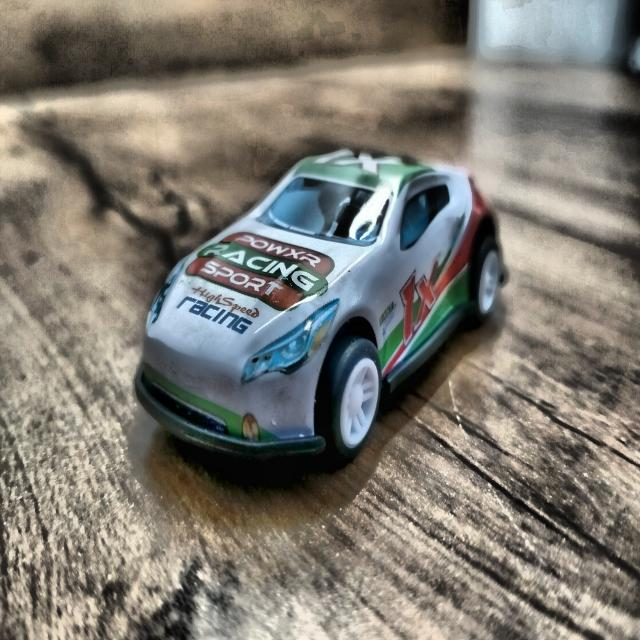Car: (118, 137, 507, 481)
